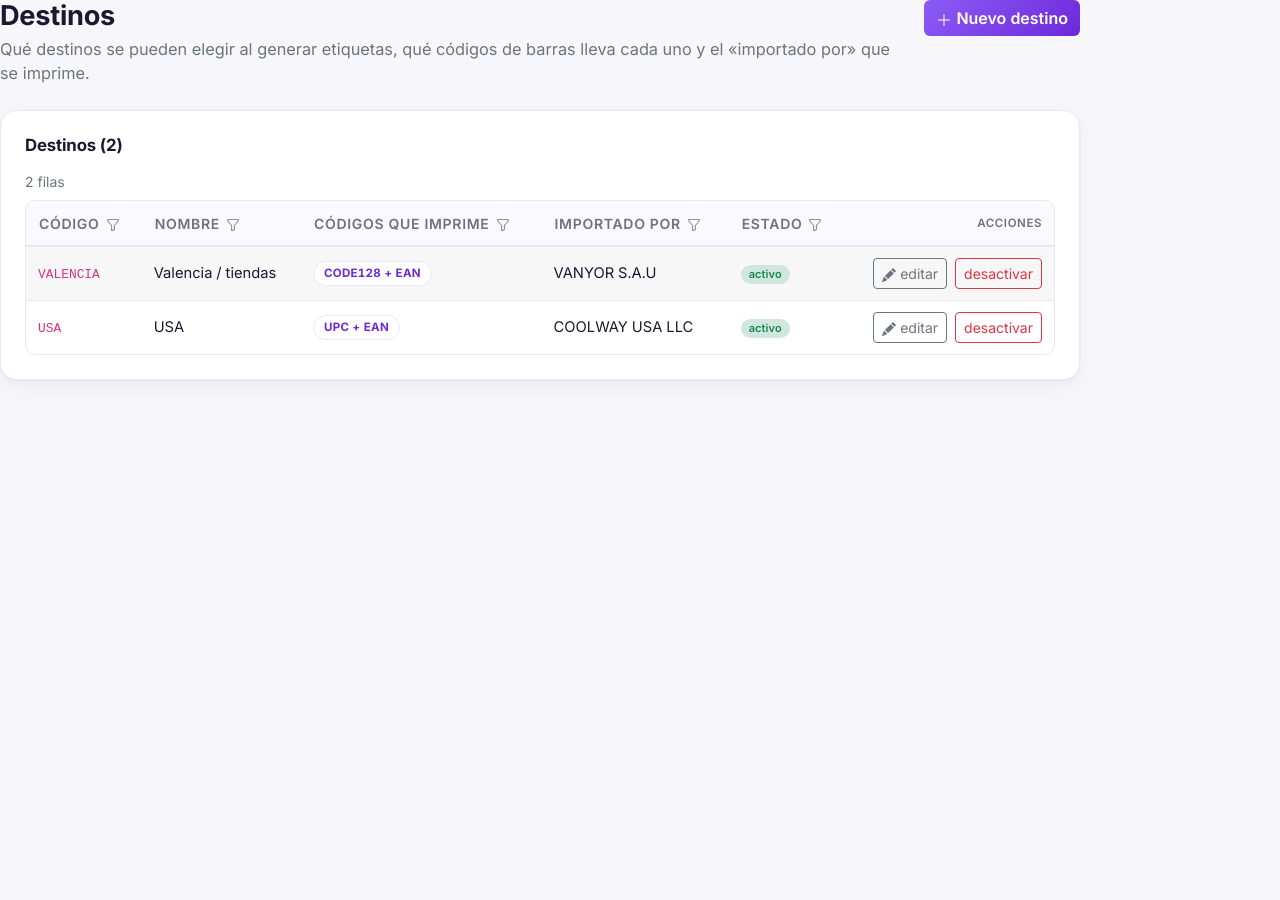
Test: DestinosPage · editar carga EL destino de esa fila › cancelar no guarda nada
Expected: the text "Valencia / tiendas" is shown, [142,246,301,300]
Click the button with aria-label "Editar USA": (910, 327) [873,312,947,343]
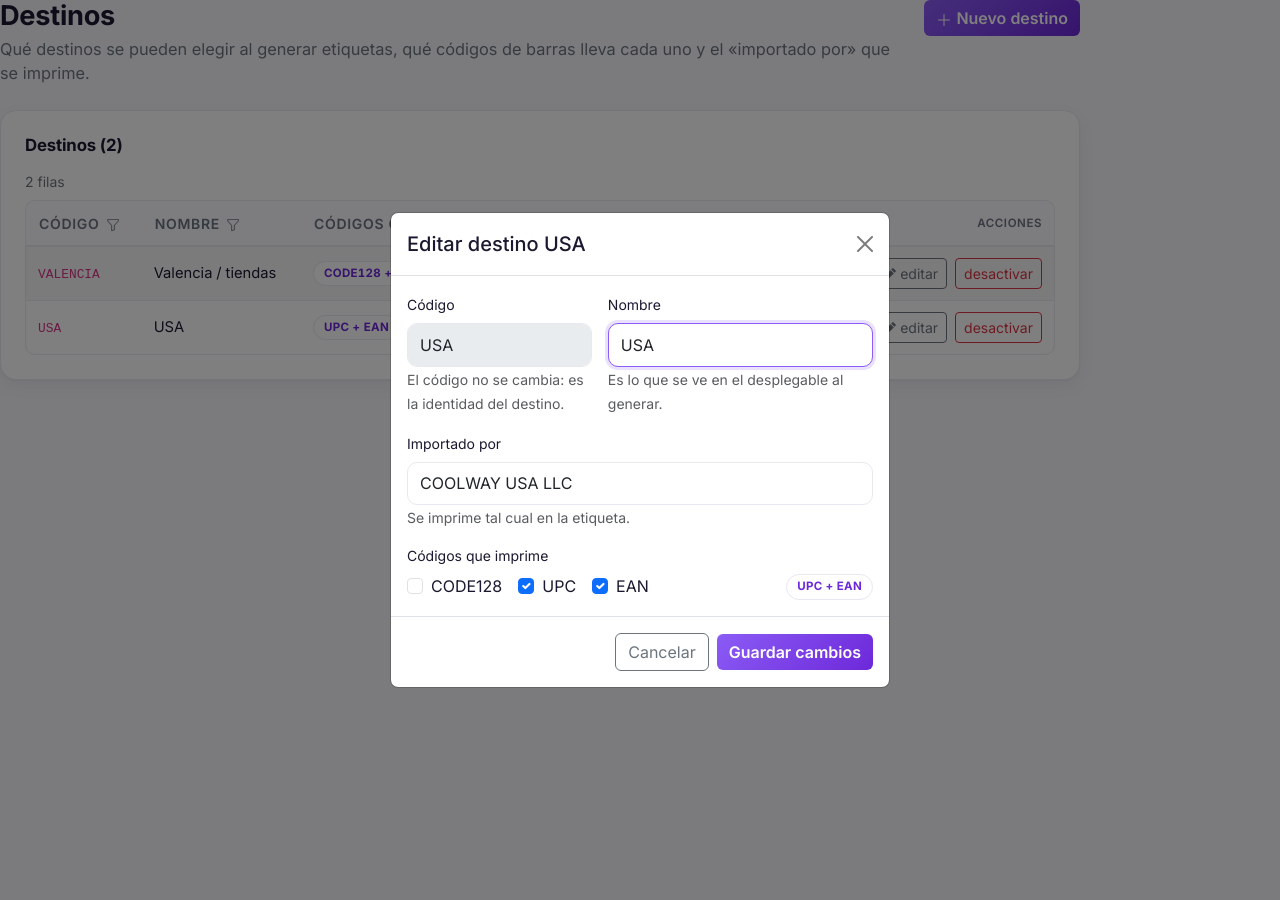
Click the button "Cancelar": (662, 652) [615,633,709,671]
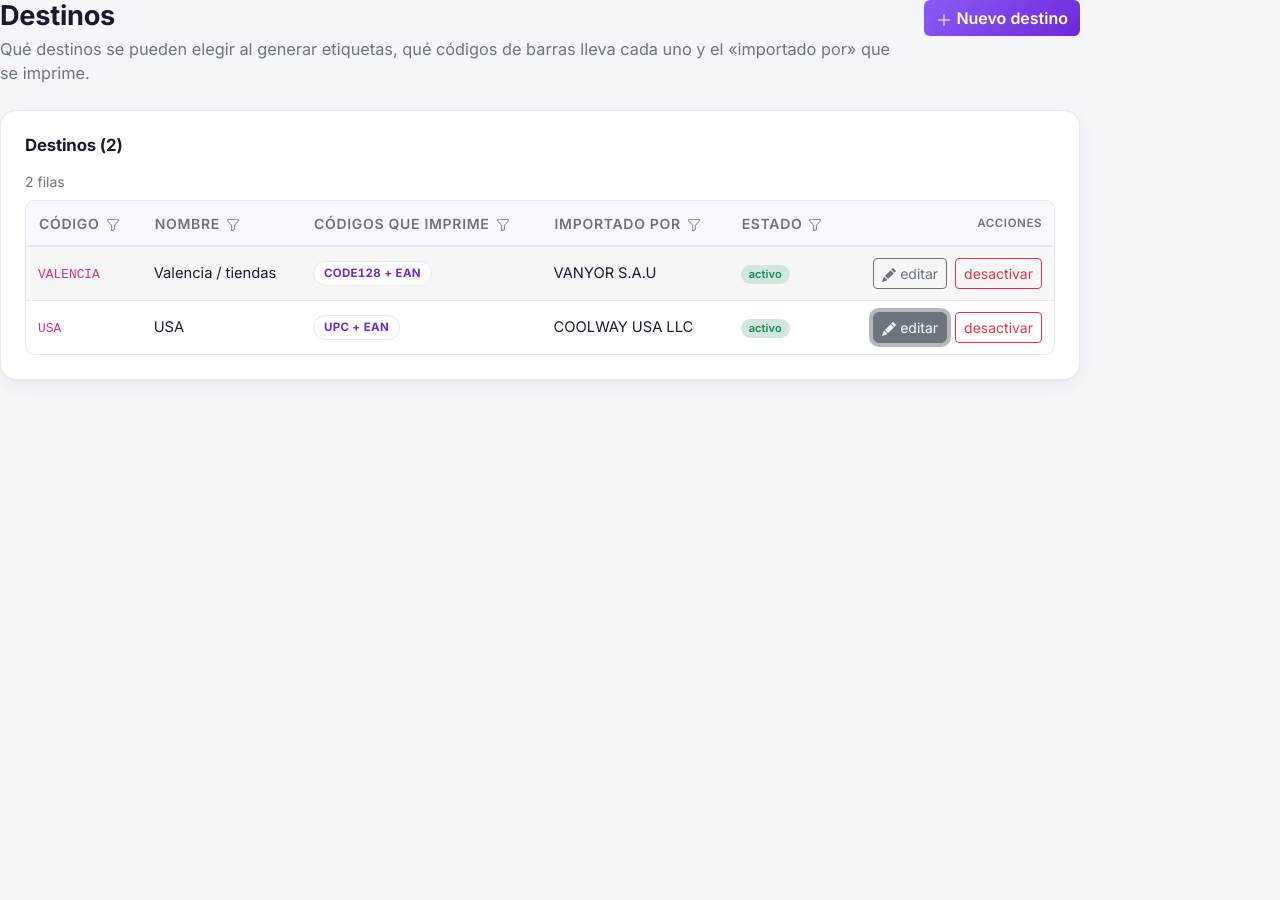
Expected: the dialog is gone
